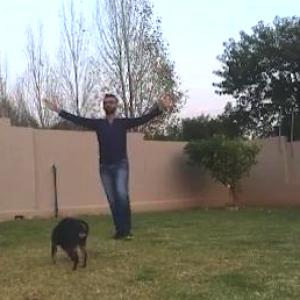takeoff: (30, 73, 171, 251)
